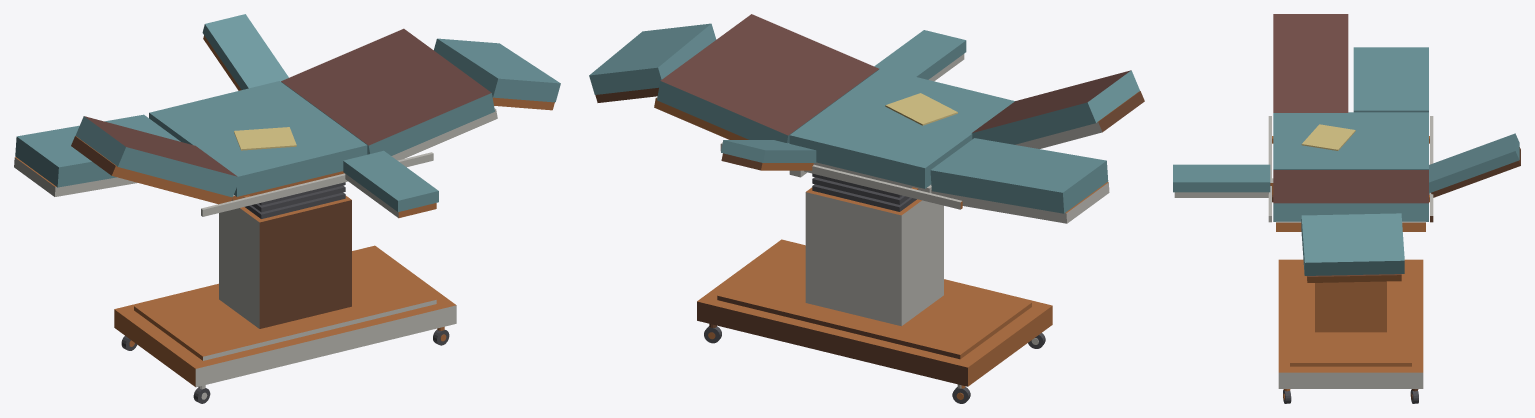
File: operatingRoom_chair_v2.fbx
3 renders of one model, left to right at view 1: azimuth 30°, elevation 25°; view 2: azimuth 150°, elevation 25°; view 3: azimuth 270°, elevation 25°, orthographic. The views are drawn at different scales.
Parts seen in each view (by area): view 1: 02_SurgicalTable_Damaged_Mesh; view 2: 02_SurgicalTable_Damaged_Mesh; view 3: 02_SurgicalTable_Damaged_Mesh.
Part boxes in pixels (x1=…): 02_SurgicalTable_Damaged_Mesh: x1=14, y1=14, x2=560, y2=403; 02_SurgicalTable_Damaged_Mesh: x1=589, y1=14, x2=1144, y2=403; 02_SurgicalTable_Damaged_Mesh: x1=1173, y1=14, x2=1520, y2=403.
Bounding box in the file's own units: 176 × 99.08 × 125.
